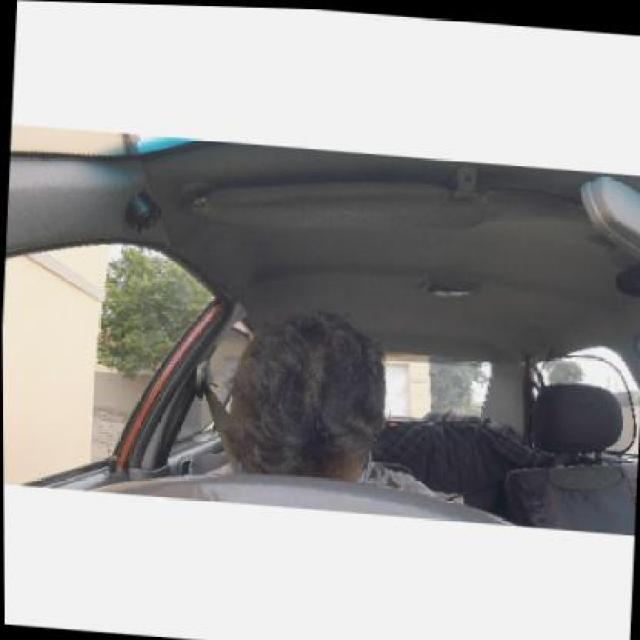drowsy: (222, 294, 394, 484)
